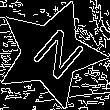N_SW: (18, 22, 83, 86)
